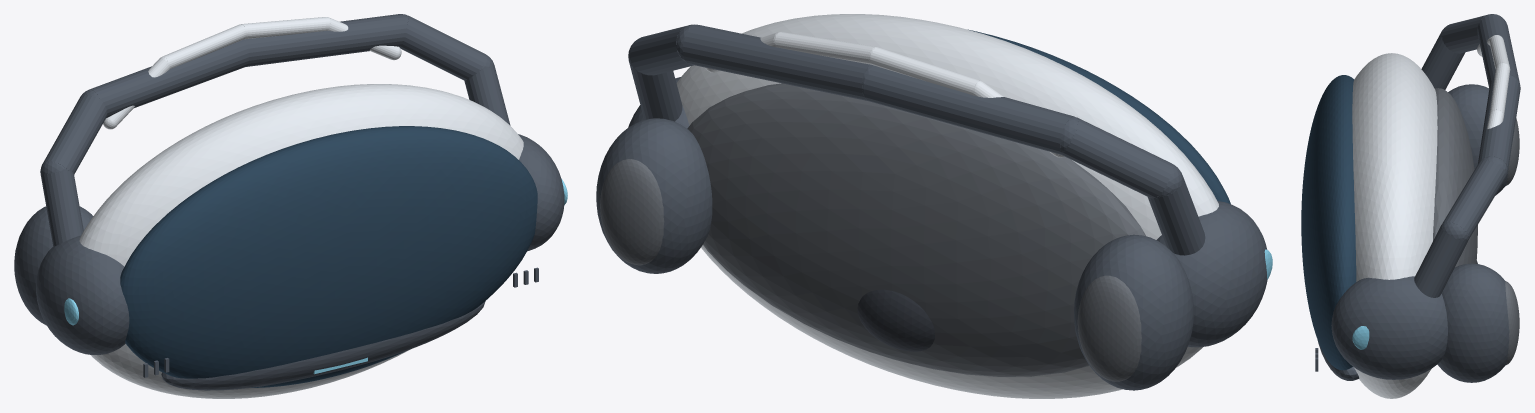
Rendered from Resona_VR_Headset_Concept.glb.
The picture shows the model from 3 angles, left to right: view 1: azimuth 30°, elevation 25°; view 2: azimuth 150°, elevation 25°; view 3: azimuth 270°, elevation 25°; orthographic projection. The views are drawn at different scales.
Visible parts, largest first — view 1: Obsidian_front_visor, Main_silver_visor_shell, Side_hinge_L, Lower_shell_lip, Rear_headband_segment_3_bar, Rear_headband_segment_2_bar, Rear_headband_segment_4_bar, Side_hinge_R, Audio_cup_L, Rear_headband_segment_1_bar, Rear_headband_segment_0_bar, Rear_headband_segment_5_bar (+4 smaller); view 2: Face_gasket, Main_silver_visor_shell, Audio_cup_L, Audio_cup_R, Side_hinge_L, Rear_headband_segment_2_bar, Rear_headband_segment_3_bar, Audio_cup_inner_L, Audio_cup_inner_R, Rear_headband_segment_1_bar, Nose_relief, Rear_headband_segment_0_bar (+5 smaller); view 3: Main_silver_visor_shell, Obsidian_front_visor, Side_hinge_R, Audio_cup_R, Face_gasket, Rear_headband_segment_4_bar, Rear_headband_segment_5_bar, Rear_headband_segment_3_bar, Audio_cup_L, Rear_headband_segment_2_bar, Rear_headband_segment_0_bar, Rear_headband_segment_1_bar (+8 smaller).
Part boxes in pixels (box(x1,y1,x2,y2)): Obsidian_front_visor: box(120, 126, 537, 387); Main_silver_visor_shell: box(79, 84, 523, 398); Side_hinge_L: box(36, 235, 129, 354); Lower_shell_lip: box(161, 301, 485, 390); Rear_headband_segment_3_bar: box(245, 14, 406, 66); Rear_headband_segment_2_bar: box(89, 39, 249, 118); Rear_headband_segment_4_bar: box(399, 16, 486, 80); Side_hinge_R: box(518, 134, 564, 251); Audio_cup_L: box(14, 206, 93, 325); Rear_headband_segment_1_bar: box(43, 94, 107, 174); Rear_headband_segment_0_bar: box(40, 170, 83, 246); Rear_headband_segment_5_bar: box(464, 65, 510, 125); Face_gasket: box(687, 83, 1145, 376); Main_silver_visor_shell: box(676, 14, 1218, 398); Audio_cup_L: box(1074, 234, 1193, 390); Audio_cup_R: box(596, 118, 712, 273); Side_hinge_L: box(1156, 201, 1267, 347); Rear_headband_segment_2_bar: box(864, 65, 1073, 154); Rear_headband_segment_3_bar: box(683, 24, 869, 100); Audio_cup_inner_L: box(1077, 275, 1141, 381); Audio_cup_inner_R: box(600, 159, 664, 265); Rear_headband_segment_1_bar: box(1061, 117, 1172, 198); Nose_relief: box(857, 289, 934, 351); Rear_headband_segment_0_bar: box(1147, 175, 1205, 255); Main_silver_visor_shell: box(1352, 53, 1437, 398); Obsidian_front_visor: box(1301, 75, 1356, 370); Side_hinge_R: box(1331, 276, 1447, 379); Audio_cup_R: box(1437, 263, 1509, 382); Face_gasket: box(1433, 88, 1477, 267); Rear_headband_segment_4_bar: box(1442, 160, 1506, 239); Rear_headband_segment_5_bar: box(1414, 225, 1468, 297); Rear_headband_segment_3_bar: box(1478, 75, 1520, 172); Audio_cup_L: box(1448, 84, 1508, 195); Rear_headband_segment_2_bar: box(1477, 15, 1519, 87); Rear_headband_segment_0_bar: box(1421, 32, 1465, 89); Rear_headband_segment_1_bar: box(1441, 14, 1490, 53).
Bounding box in the file's own units: 2.64 × 1.59 × 1.06.
